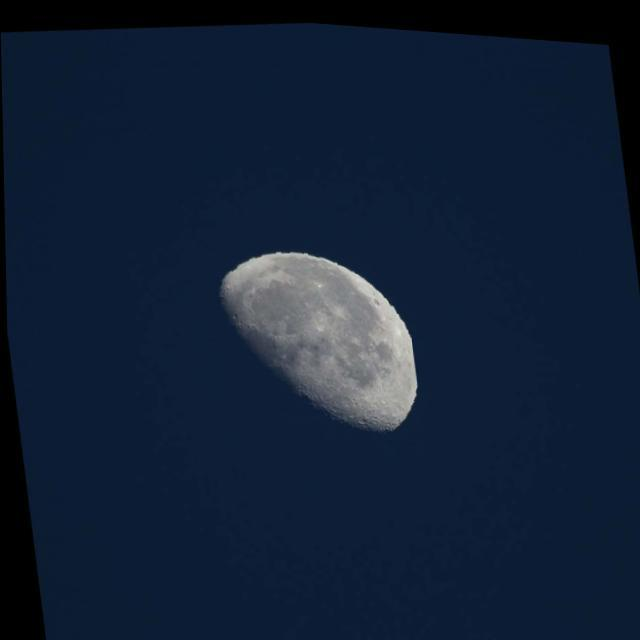moon: (165, 218, 428, 499)
